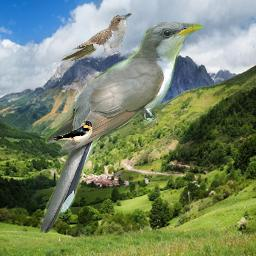Cuckoo: (39, 22, 202, 233), (60, 13, 132, 61)
Swallow: (45, 120, 93, 145)
